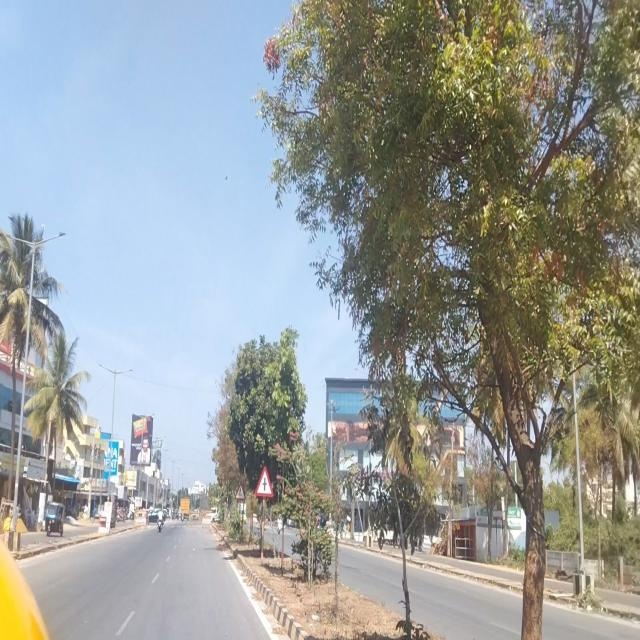bien_nguy_hiem: (255, 465, 274, 498), (235, 483, 245, 500)
